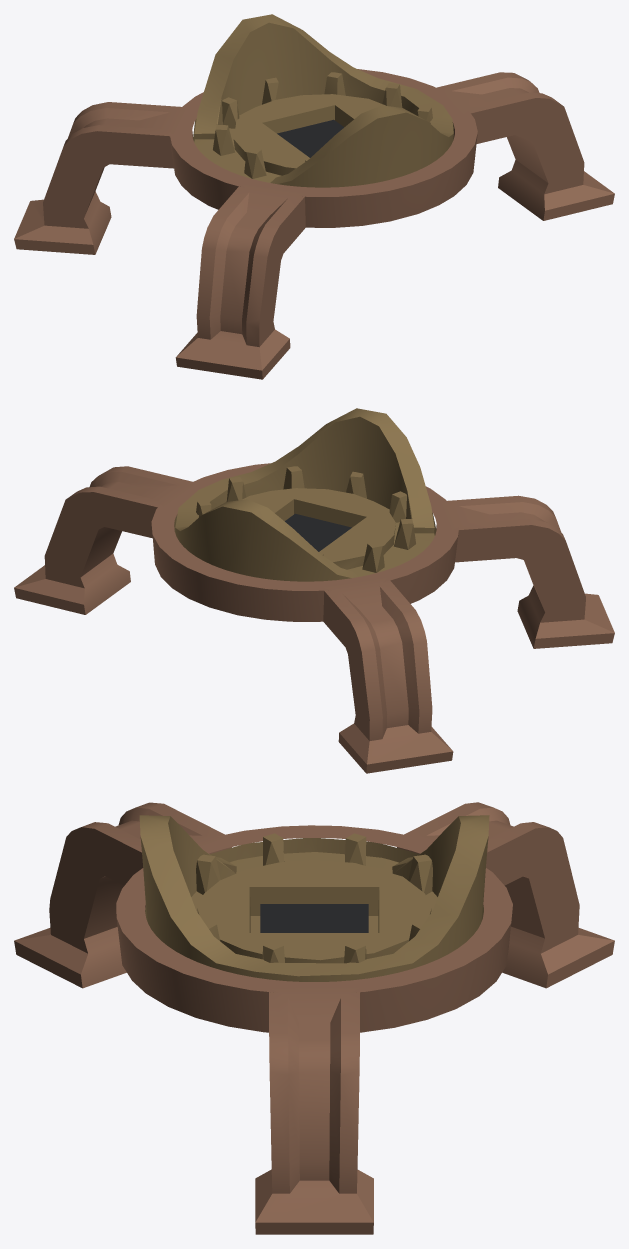
File: burner-inserter-east.glb
3 renders of one model, top to bottom at view 1: azimuth 30°, elevation 25°; view 2: azimuth 150°, elevation 25°; view 3: azimuth 270°, elevation 25°, orthographic. The views are drawn at different scales.
Parts seen in each view (by area): view 1: body; view 2: body; view 3: body.
Part boxes in pixels (x1,y1,x2,y2): body: (14,14,614,379); body: (14,408,614,773); body: (14,802,614,1234).
Size of the model in its own units: 1.15 by 0.4164 by 0.9298.
